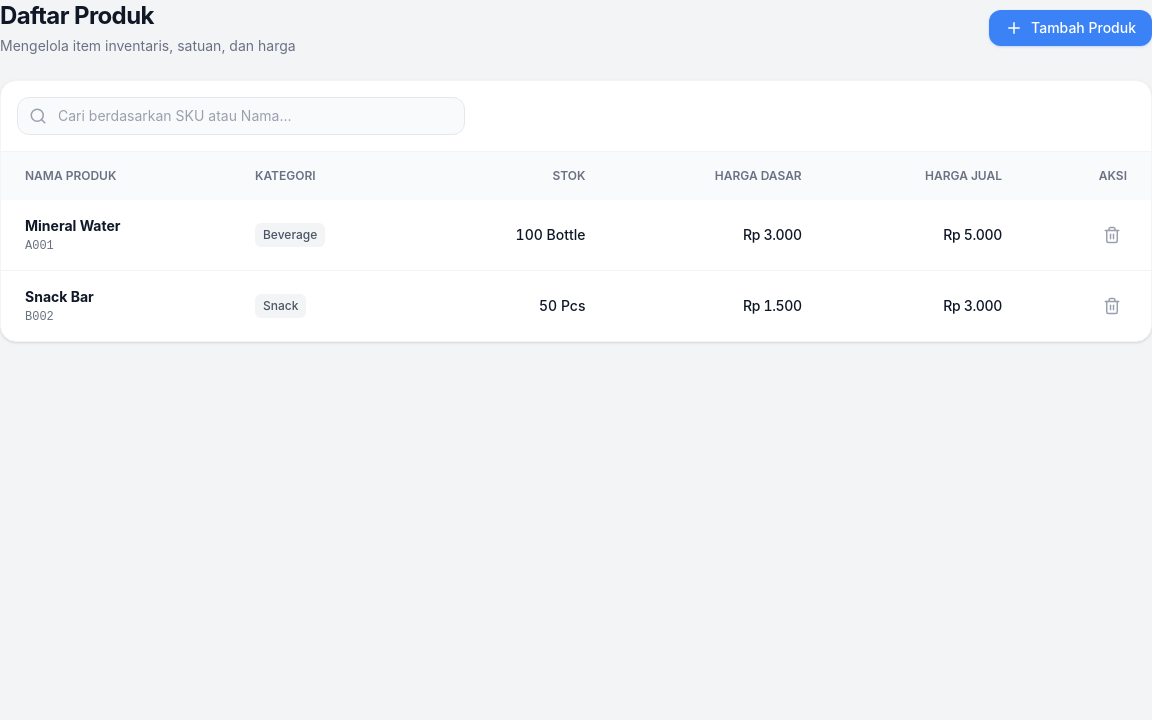
Catalog Page › deletes a product successfully
Expected: the text "Mineral Water" is shown, [25,217,120,234]
Click the button named "Hapus produk" in the row of "Mineral Water" at point(1112, 235), box [1097,220,1127,250]
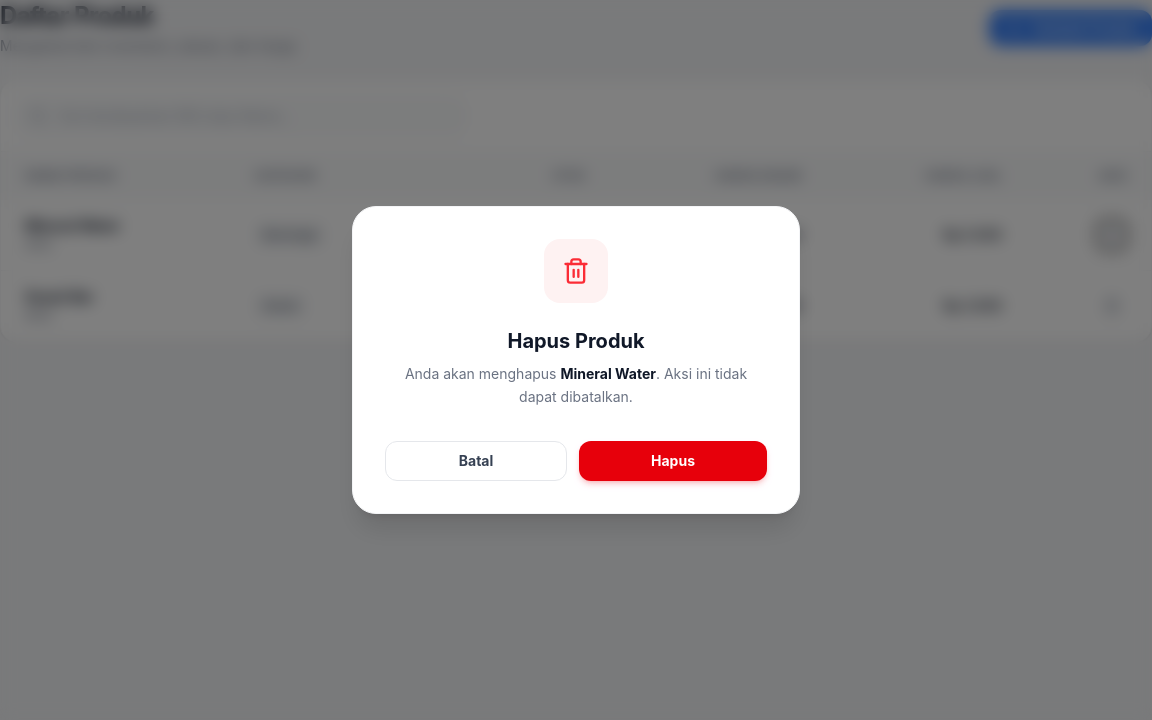
Click the button "Hapus" at point(673, 461), box [579,441,767,481]
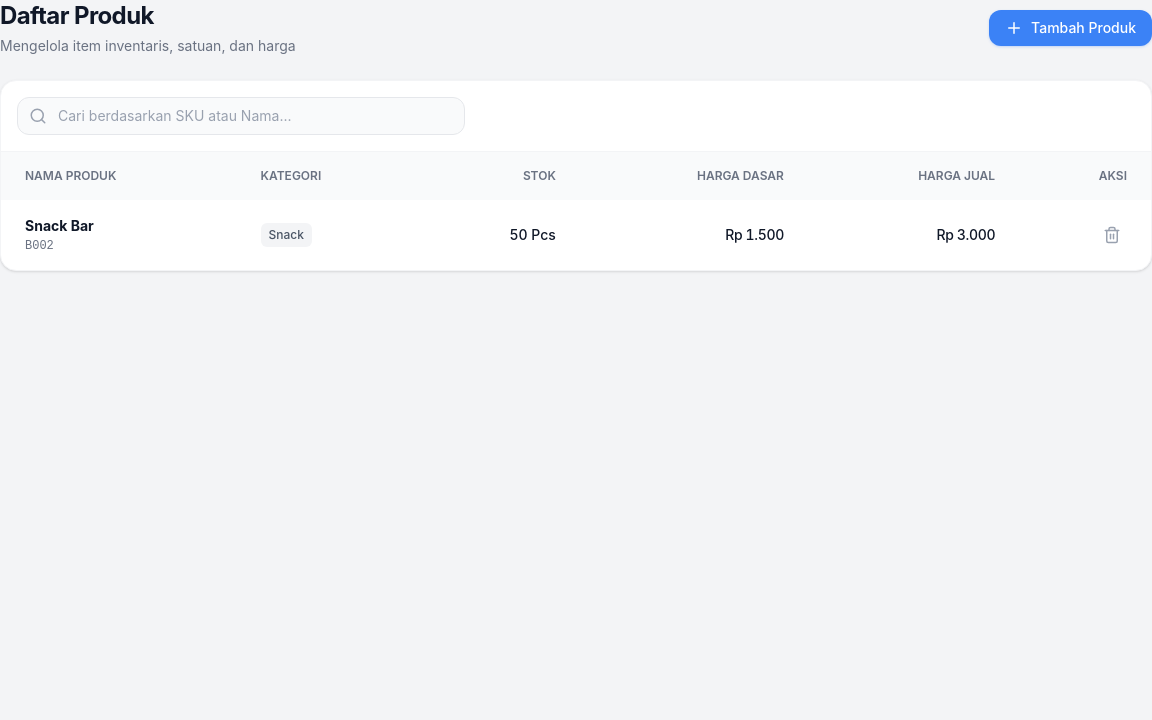
Expected: the text "Snack Bar" is shown, [25,217,94,234]
Now the heading "Hapus Produk" is gone
Now the text "Mineral Water" is gone
